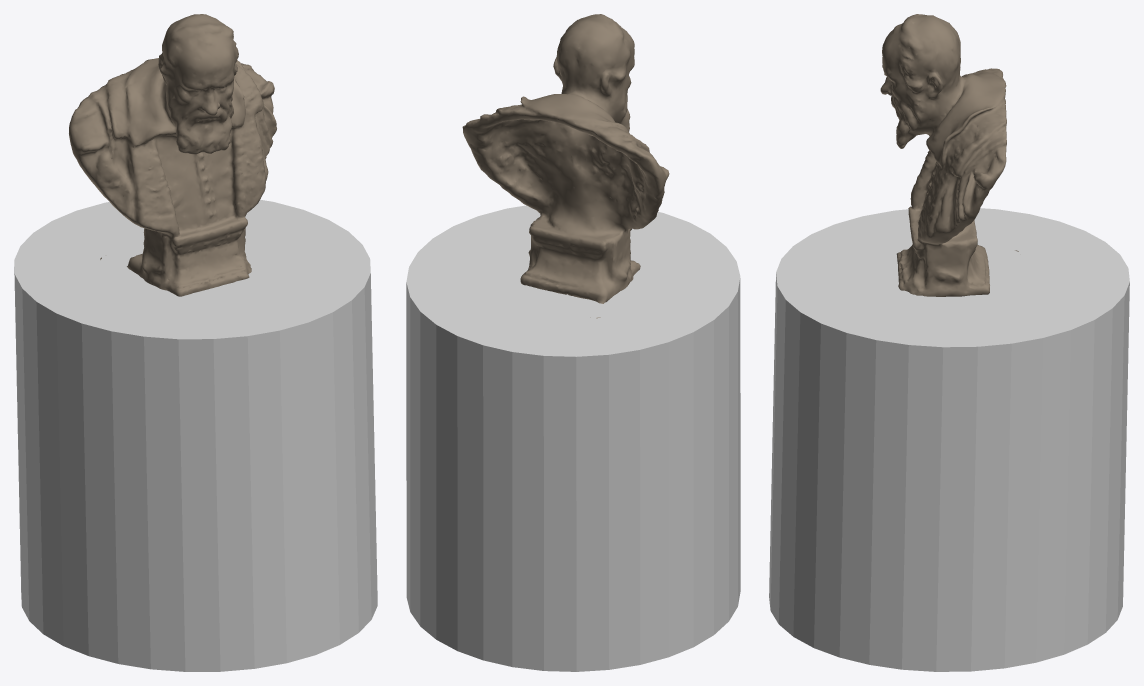
The model's file is galileo3d.glb.
3 views of the same model, side by side, from view 1: azimuth 30°, elevation 25°; view 2: azimuth 150°, elevation 25°; view 3: azimuth 270°, elevation 25° (orthographic). The views are drawn at different scales.
Parts seen in each view (by area): view 1: Cilindro; view 2: Cilindro; view 3: Cilindro.
Boxes of the visible parts, left/top/right/bottom form: Cilindro: left=14, top=14, right=377, bottom=671; Cilindro: left=406, top=14, right=740, bottom=671; Cilindro: left=769, top=14, right=1129, bottom=671.
Size of the model in its own units: 0.8723 by 1.62 by 0.9139.
1 material, 1 textured.
